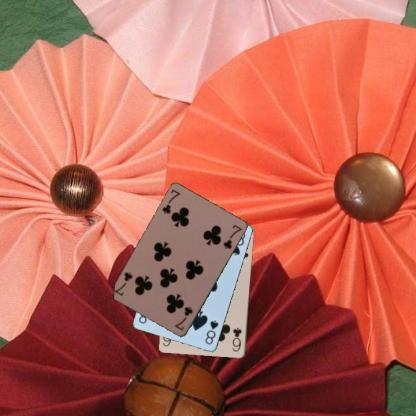6c: (230, 325, 244, 353)
7c: (160, 187, 182, 216), (172, 304, 194, 332)
8s: (202, 318, 219, 347)
